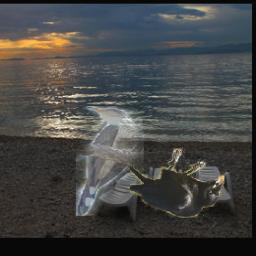Crow: (130, 148, 224, 218)
Cuckoo: (77, 106, 145, 216)
